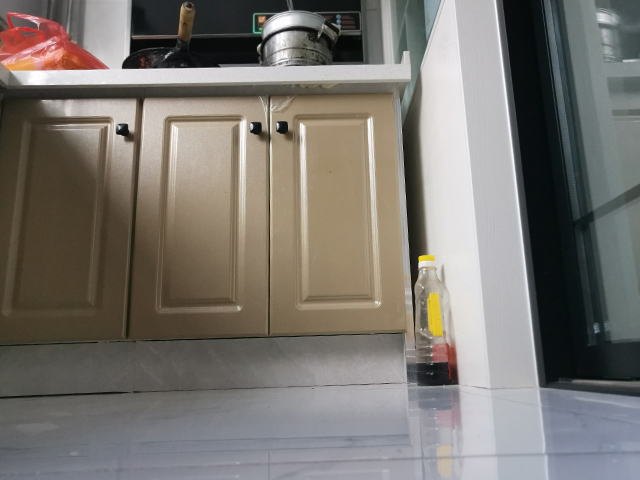cabinet: (1, 60, 413, 399)
